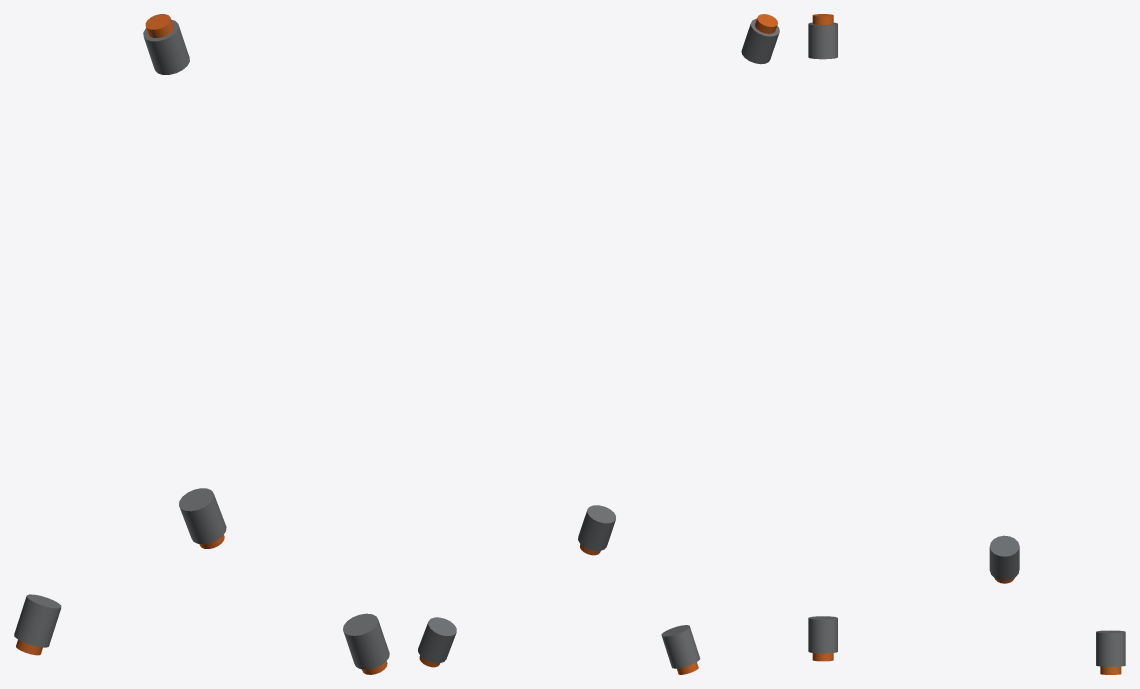
Rendered from u33_sensors.obj.
3 views of the same model, side by side, from view 1: azimuth 30°, elevation 25°; view 2: azimuth 150°, elevation 25°; view 3: azimuth 270°, elevation 25° (orthographic). The views are drawn at different scales.
Parts seen in each view (by area): view 1: u33_sensors; view 2: u33_sensors; view 3: u33_sensors.
Boxes of the visible parts, x1,y1,x2,y2 form: u33_sensors: (14,14,389,674); u33_sensors: (418,14,779,674); u33_sensors: (808,14,1125,674).
Bounding box in the file's own units: 1.19 × 2.98 × 1.49.
